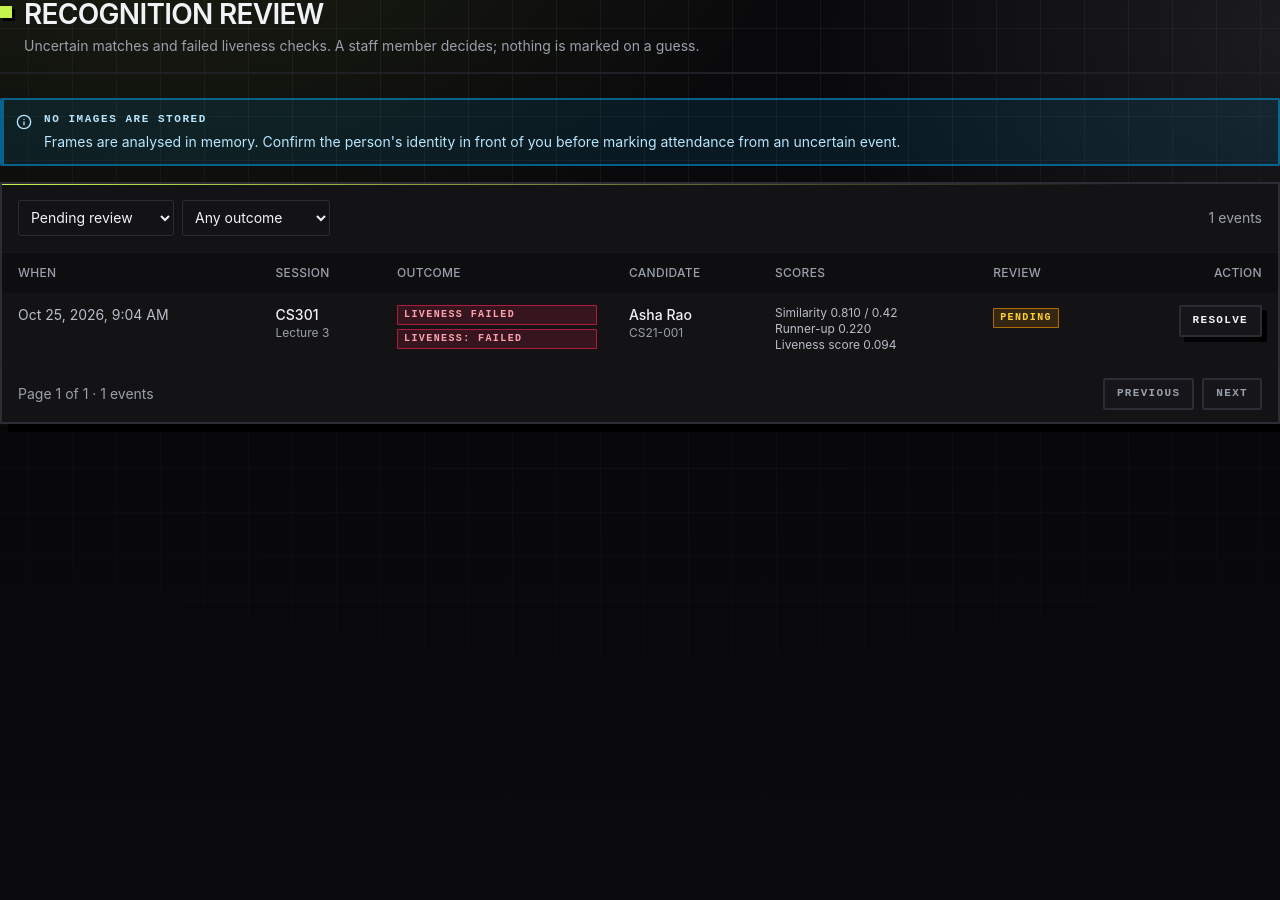
Test case: recognition review page › requires a note and resolves the event as late
Click the button "Resolve".
click(1220, 321)  # box [1178, 305, 1262, 337]
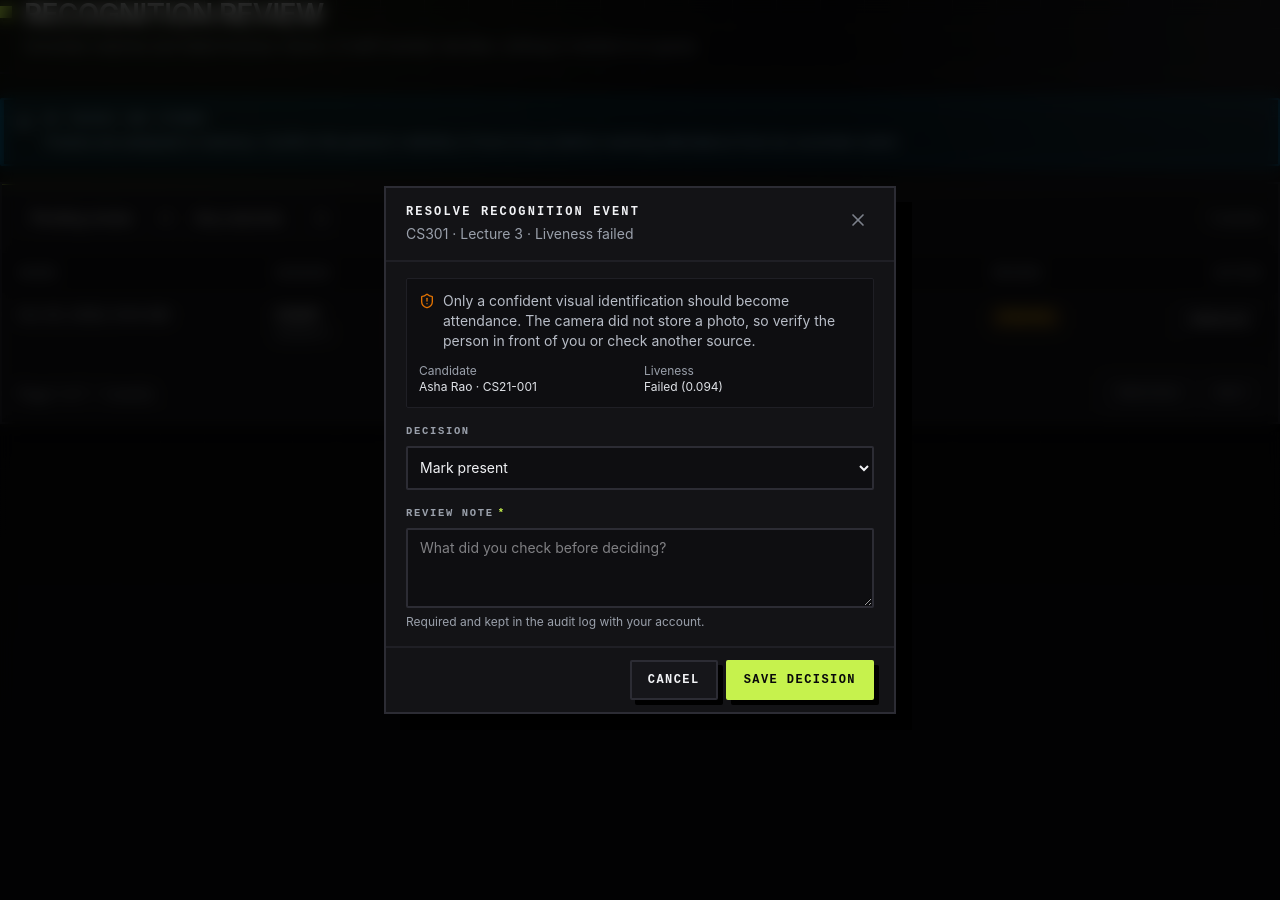
Select "Mark late" in the dropdown labelled "Decision" at (640, 468), box [406, 446, 874, 490]
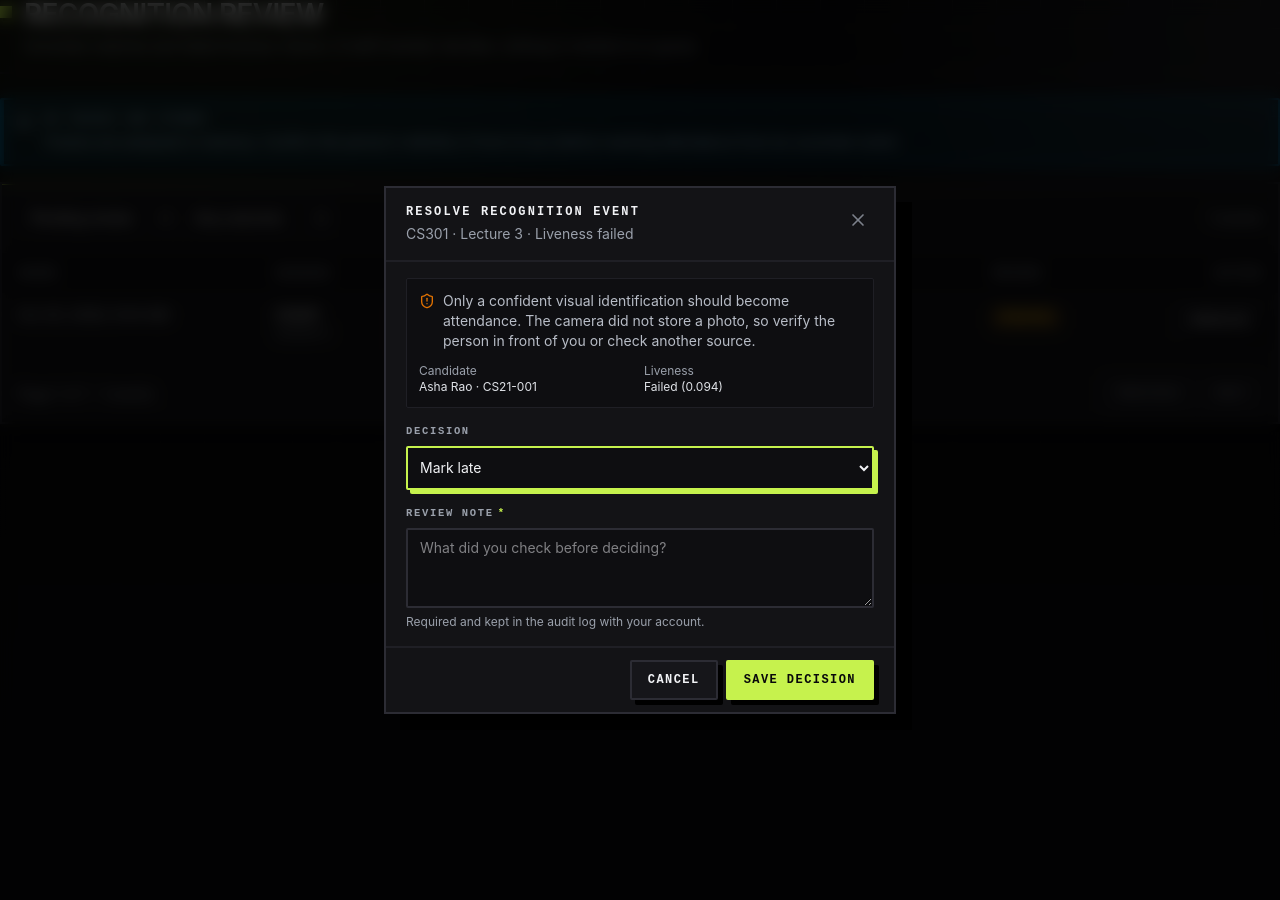
Type "Matched student ID in person" into the text box labelled "Review note*".
click(640, 568); type("Matched student ID in person")  # box [406, 528, 874, 608]
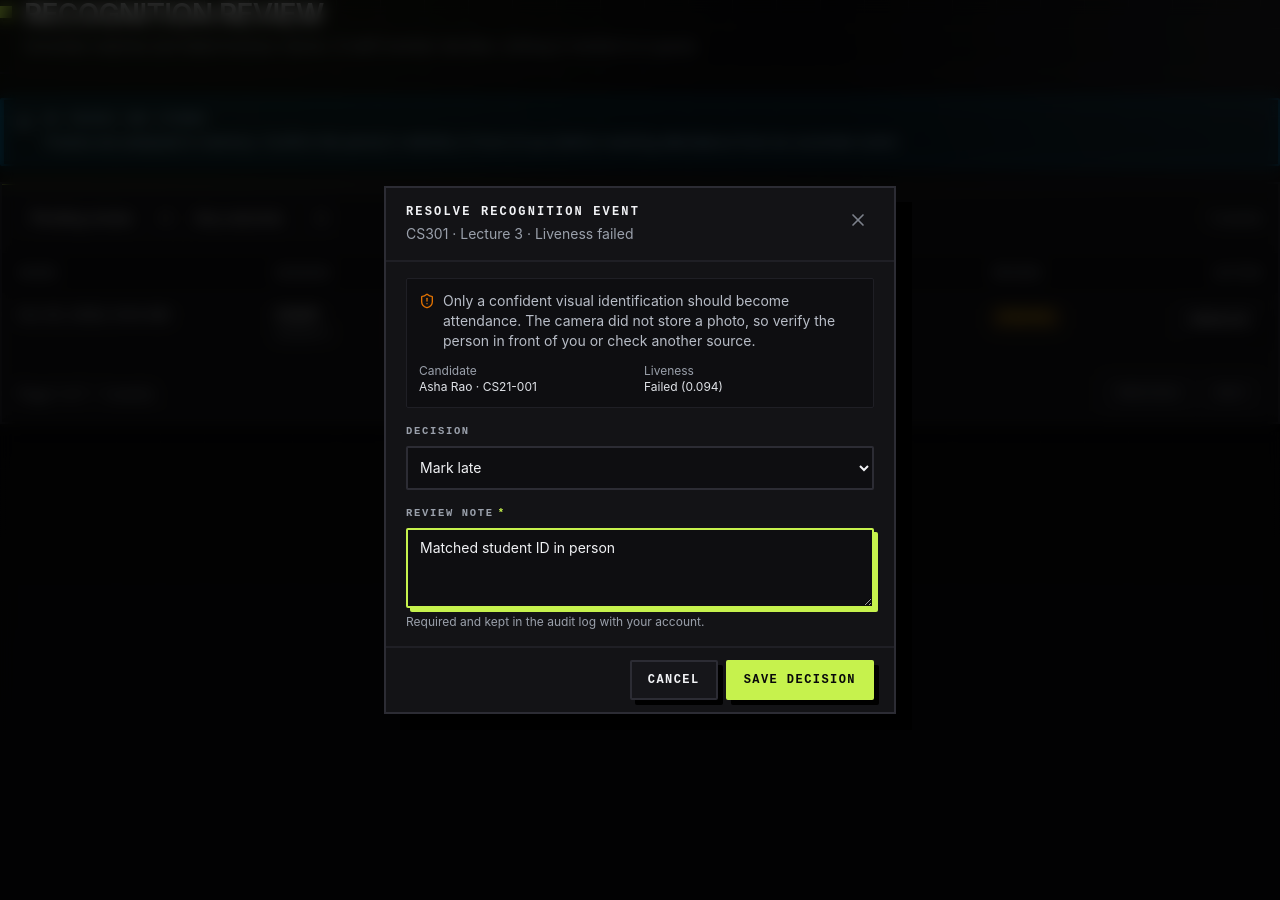
Click the button "Save decision".
click(800, 680)  # box [726, 660, 874, 700]
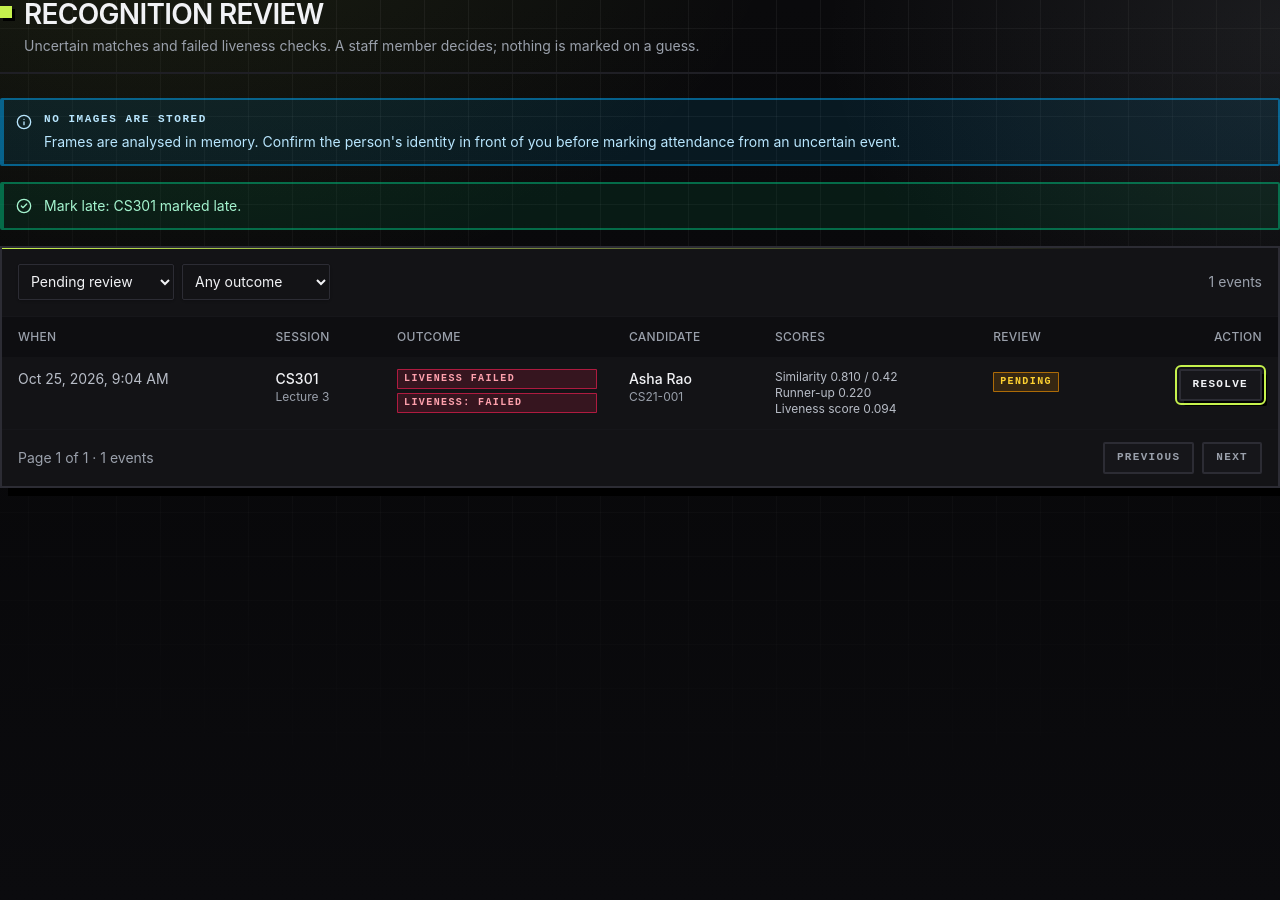
Now the text "Mark late: CS301 marked late." is shown, box [44, 196, 241, 216]
